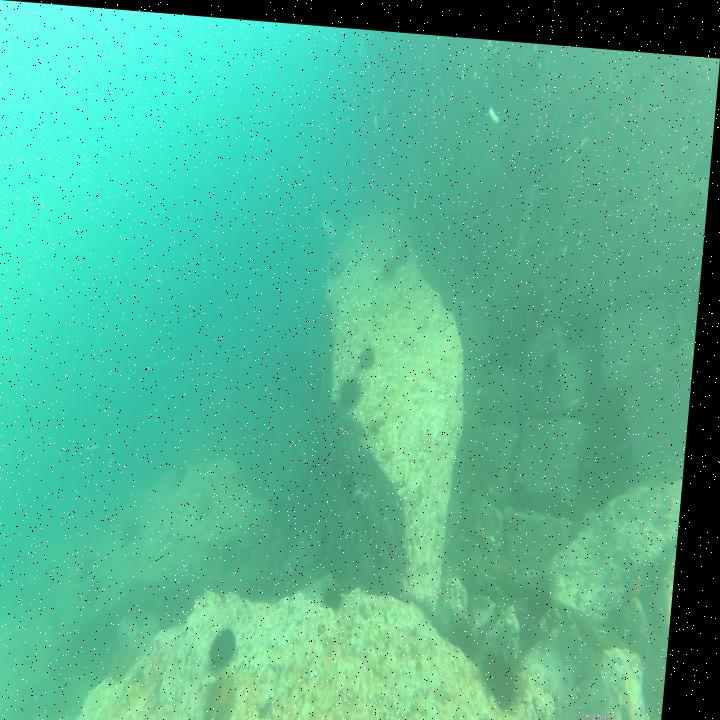echinus: (487, 636, 540, 710), (211, 665, 256, 720), (455, 600, 488, 655), (217, 617, 251, 670), (328, 572, 358, 608), (92, 572, 117, 613), (89, 543, 111, 586), (346, 370, 370, 408), (329, 242, 352, 281), (202, 483, 226, 520), (229, 531, 250, 569), (362, 330, 384, 365), (181, 447, 198, 489), (396, 230, 417, 261), (133, 514, 151, 546), (383, 248, 403, 273)
